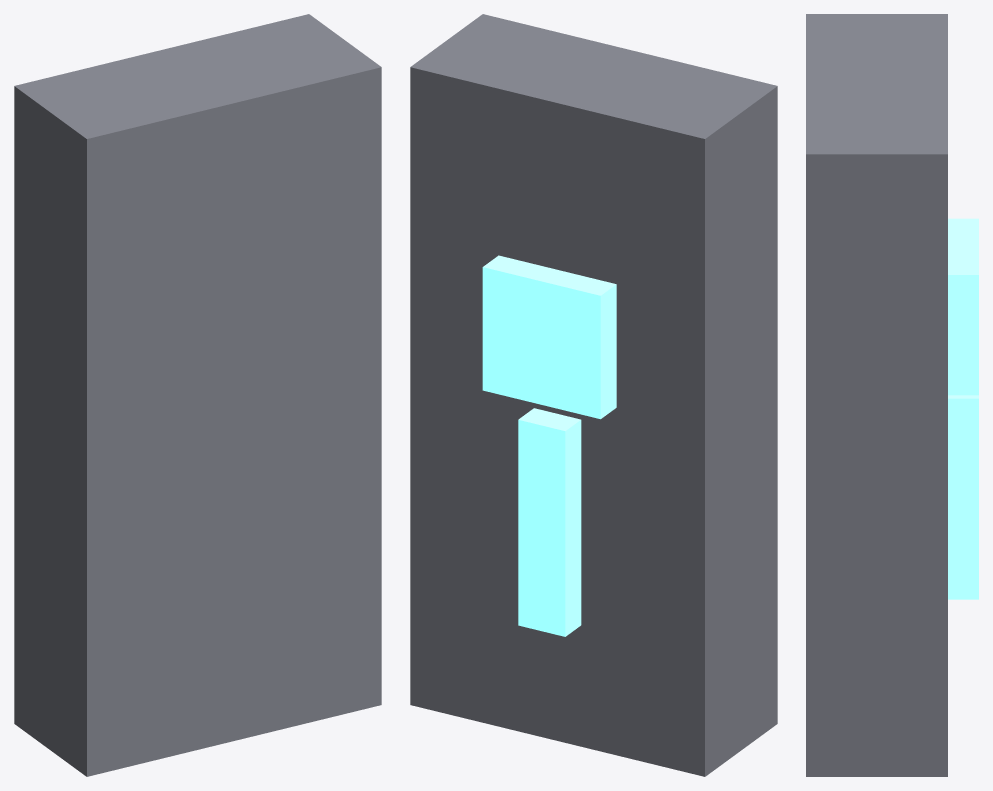
File: rune_stone.glb
3 views of the same model, side by side, from view 1: azimuth 30°, elevation 25°; view 2: azimuth 150°, elevation 25°; view 3: azimuth 270°, elevation 25° (orthographic). The views are drawn at different scales.
Parts seen in each view (by area): view 1: RuneStone; view 2: RuneStone; view 3: RuneStone.
Boxes of the visible parts, x1,y1,x2,y2 form: RuneStone: (14,14,381,776); RuneStone: (410,14,777,776); RuneStone: (806,14,978,776).
Size of the model in its own units: 0.75 by 1.55 by 0.39.
